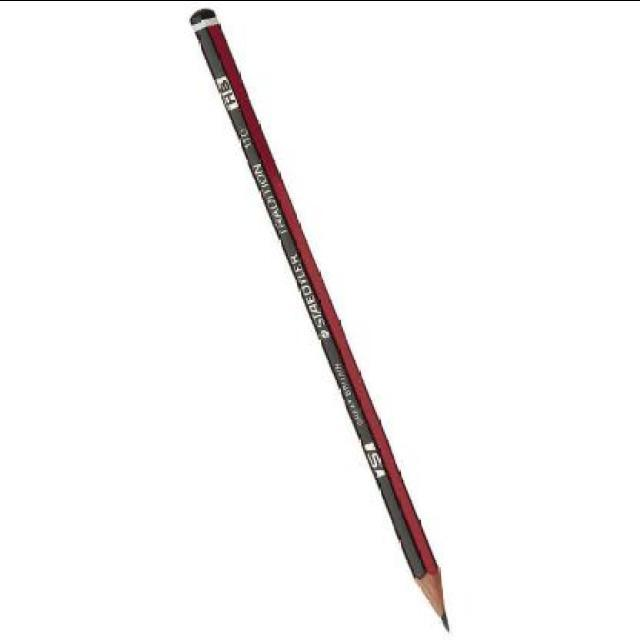pencil: (398, 552, 456, 636)
